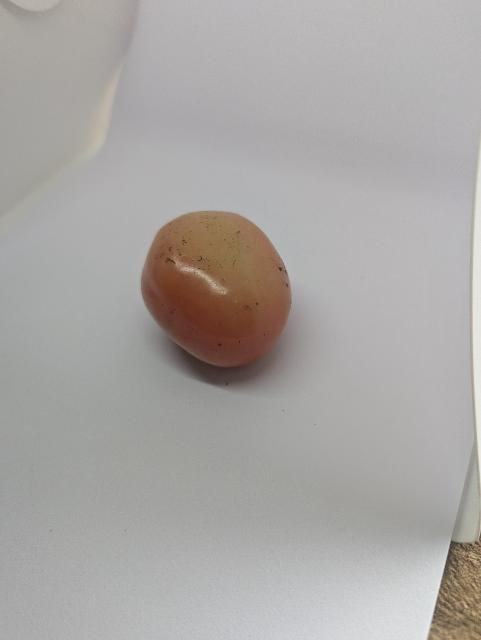turning: (133, 200, 303, 378)
